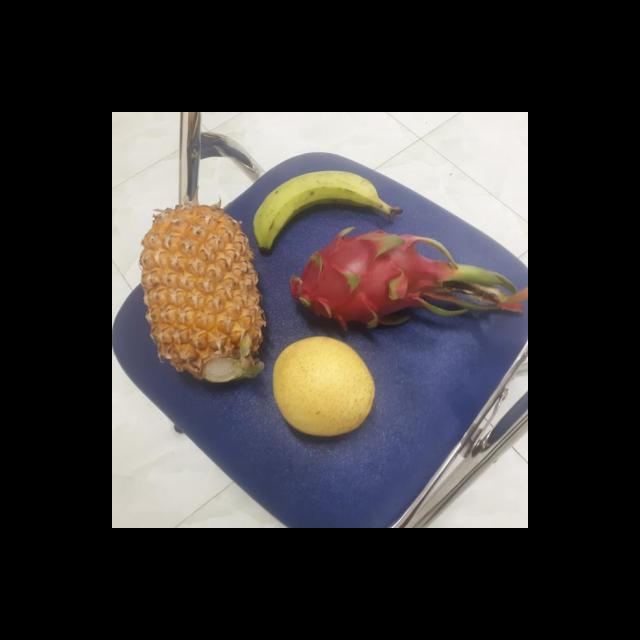banana: (252, 169, 388, 250)
pear: (272, 336, 379, 436)
pineapple: (140, 208, 260, 384)
pitaya: (278, 226, 447, 332)
